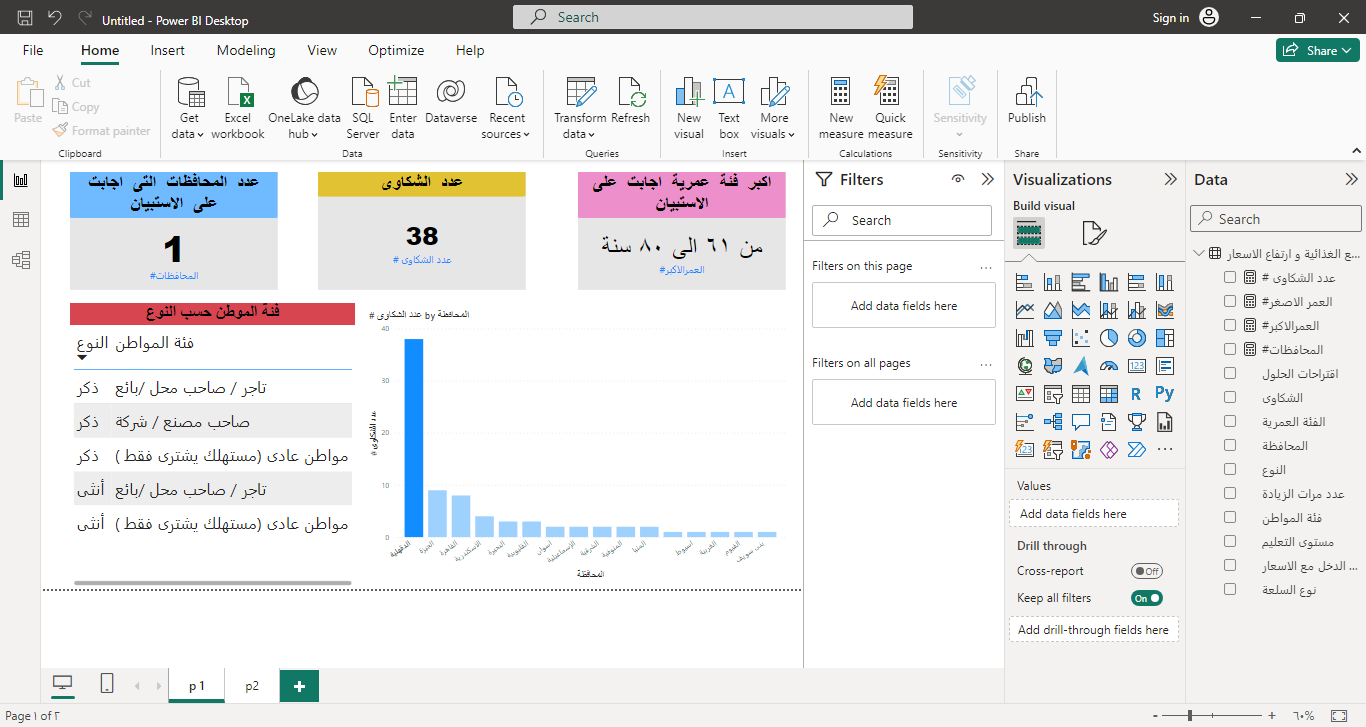

The page's visual inventory and layout, read from the dashboard file:
{"tool":"powerbi","page":{"name":"p 1","canvas":[1280,720],"ordinal":0},"visuals":[{"type":"card","title":"اكبر فئة عمرية اجابت على الاستبيان","fields":{"Values":["رؤية مصر 2030 للغش التجارى فى السلع الغذائية و ارتفاع الاسعار.#العمر"]},"box":[902,20.2,349.4,198.2],"z":0},{"type":"card","title":"عدد المحافظات التى اجابت على الاستبيان","fields":{"Values":["رؤية مصر 2030 للغش التجارى فى السلع الغذائية و ارتفاع الاسعار.#المحافظات"]},"box":[48.7,20.2,349.4,198.2],"z":1000},{"type":"card","title":"عدد الشكاوى ","fields":{"Values":["رؤية مصر 2030 للغش التجارى فى السلع الغذائية و ارتفاع الاسعار.# عدد الشكاوى"]},"box":[465.3,20.2,349.4,198.2],"z":2000},{"type":"tableEx","title":"فئة الموطن حسب النوع","fields":{"Values":["رؤية مصر 2030 للغش التجارى فى السلع الغذائية و ارتفاع الاسعار.النوع","رؤية مصر 2030 للغش التجارى فى السلع الغذائية و ارتفاع الاسعار.فئة المواطن"]},"box":[23.5,240.2,503.9,480.4],"z":3000},{"type":"columnChart","fields":{"Category":["رؤية مصر 2030 للغش التجارى فى السلع الغذائية و ارتفاع الاسعار.المحافظة"],"Y":["رؤية مصر 2030 للغش التجارى فى السلع الغذائية و ارتفاع الاسعار.# عدد الشكاوى"]},"box":[545.9,250.3,710.6,460.3],"z":4000}]}

Visuals, with their boxes on the page's 1280x720 design canvas (x1, y1, x2, y2). These are canvas units, not pixel positions in the 1366x727 screenshot, which may show the page scaled, cropped or inside an application window:
"اكبر فئة عمرية اجابت على الاستبيان" card: [902,20,1251,218]
"عدد المحافظات التى اجابت على الاستبيان" card: [49,20,398,218]
"عدد الشكاوى " card: [465,20,815,218]
"فئة الموطن حسب النوع" tableEx: [24,240,527,721]
columnChart - رؤية مصر 2030 للغش التجارى فى السلع الغذائية و ارتفاع الاسعار.المحافظة x رؤية مصر 2030 للغش التجارى فى السلع الغذائية و ارتفاع الاسعار.# عدد الشكاوى: [546,250,1256,711]
